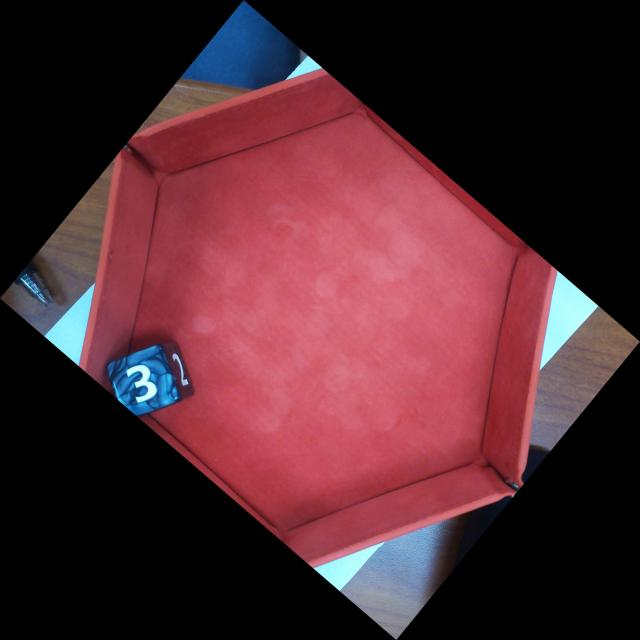dice: (105, 342, 183, 422)
